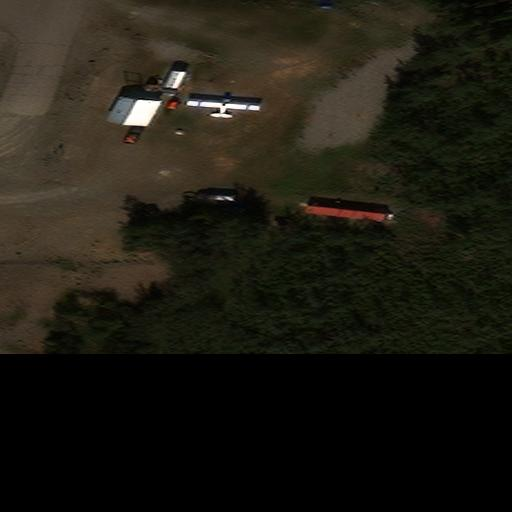Small Civil Transport: (186, 97, 259, 118)
